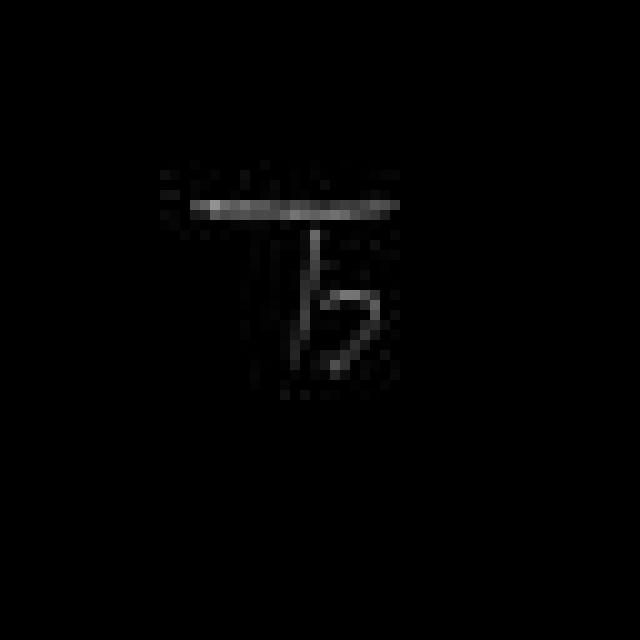10000 -a ten thousand-: (171, 169, 405, 393)
